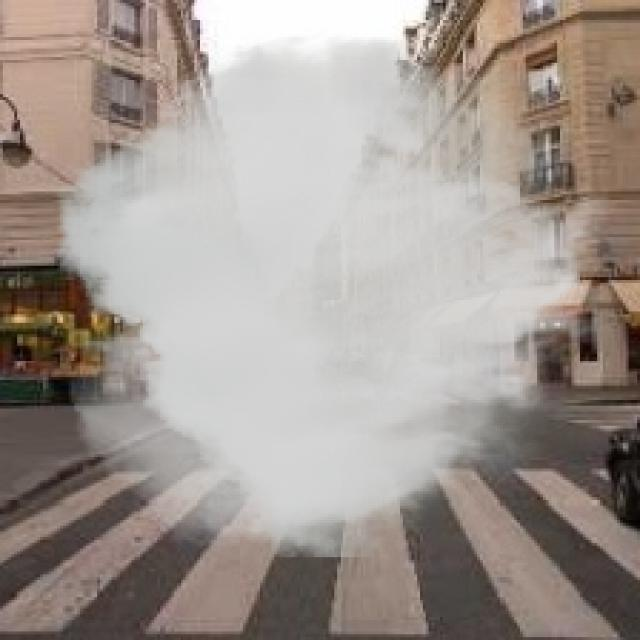smoke: (57, 29, 620, 557)
